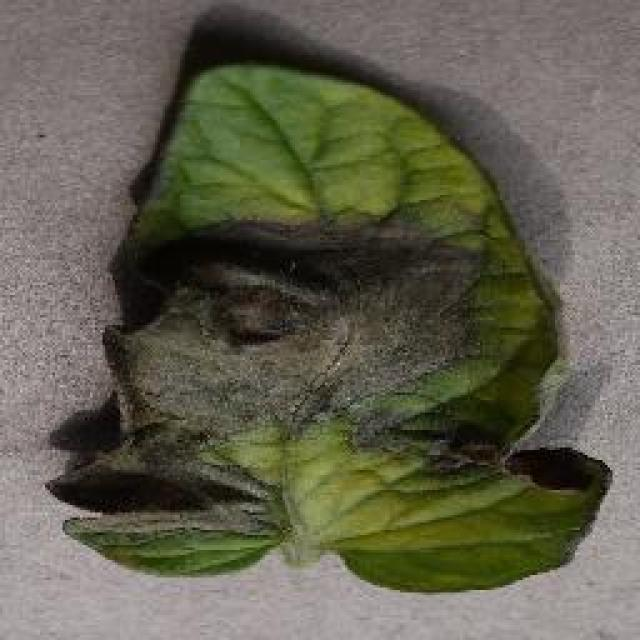Tomato Late Blight: (110, 228, 595, 520)
